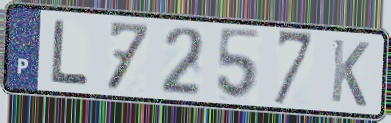2: (159, 25, 207, 96)
5: (214, 25, 264, 104)
7: (271, 28, 316, 107), (105, 19, 151, 93)
K: (328, 36, 372, 110)
L: (49, 17, 93, 87)
